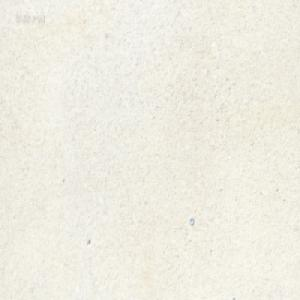Washer: (189, 216, 194, 226)
